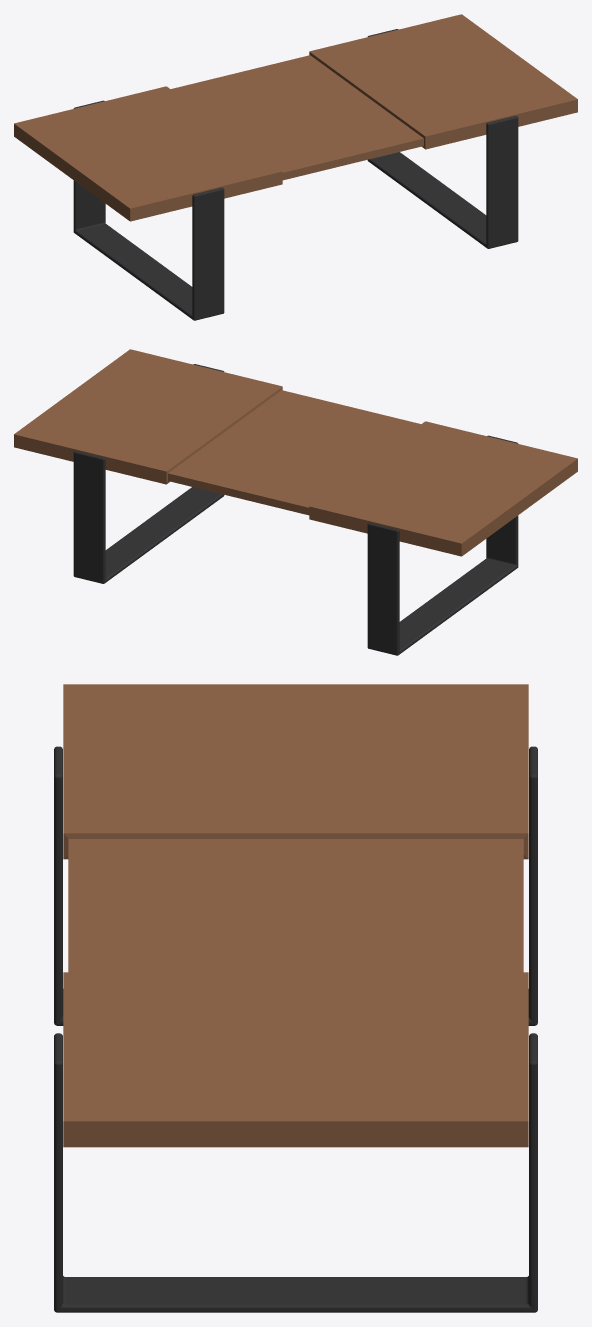
Rendered from compressed_LargeDiningTable.glb.
3 renders of one model, top to bottom at view 1: azimuth 30°, elevation 25°; view 2: azimuth 150°, elevation 25°; view 3: azimuth 270°, elevation 25°, orthographic. The views are drawn at different scales.
Visible parts, largest first — view 1: Cube.001, Cube.002; view 2: Cube.001, Cube.002; view 3: Cube.001, Cube.002.
Boxes of the visible parts, box(x1,y1,x2,y2) form: Cube.001: box(14, 14, 577, 221); Cube.002: box(73, 29, 518, 320); Cube.001: box(14, 349, 577, 556); Cube.002: box(73, 364, 518, 655); Cube.001: box(63, 684, 528, 1147); Cube.002: box(54, 746, 537, 1312).
Bounding box in the file's own units: 2.23 × 0.6003 × 1.04.
